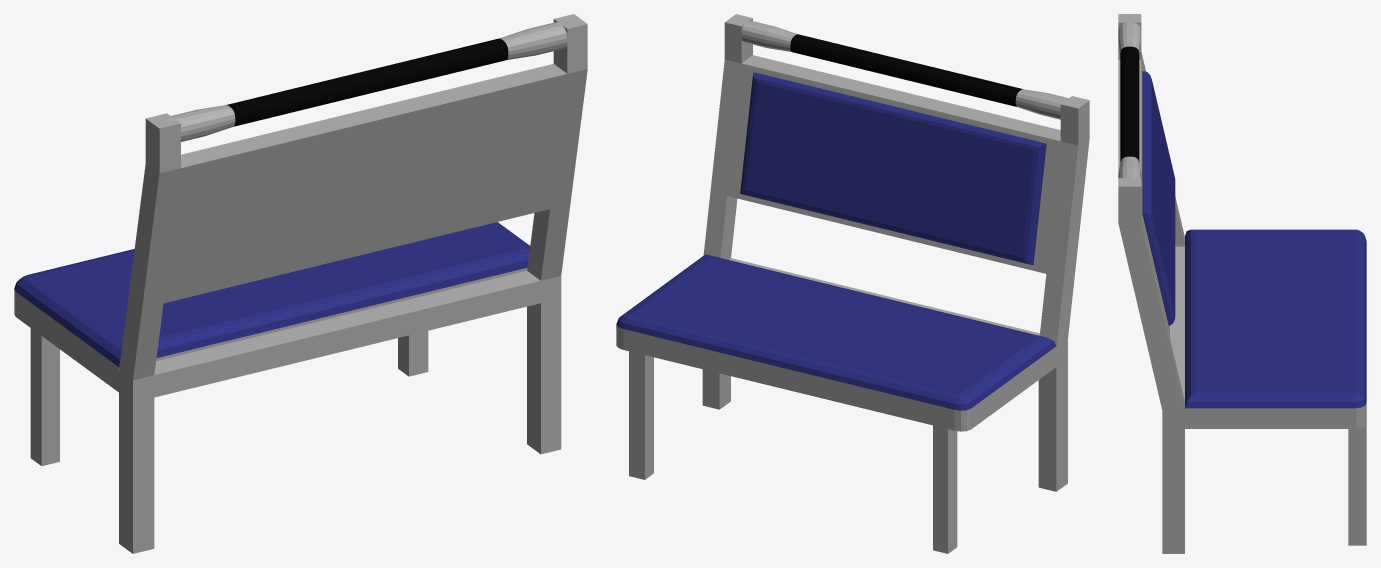
The model's file is New_sit.fbx.
3 renders of one model, left to right at view 1: azimuth 30°, elevation 25°; view 2: azimuth 150°, elevation 25°; view 3: azimuth 270°, elevation 25°, orthographic. The views are drawn at different scales.
Parts seen in each view (by area): view 1: Куб.002; view 2: Куб.002; view 3: Куб.002.
Part boxes in pixels (bbox=[...]): Куб.002: bbox=[14, 14, 587, 553]; Куб.002: bbox=[616, 14, 1089, 553]; Куб.002: bbox=[1118, 14, 1366, 553].
Size of the model in its own units: 200 by 198 by 121.
